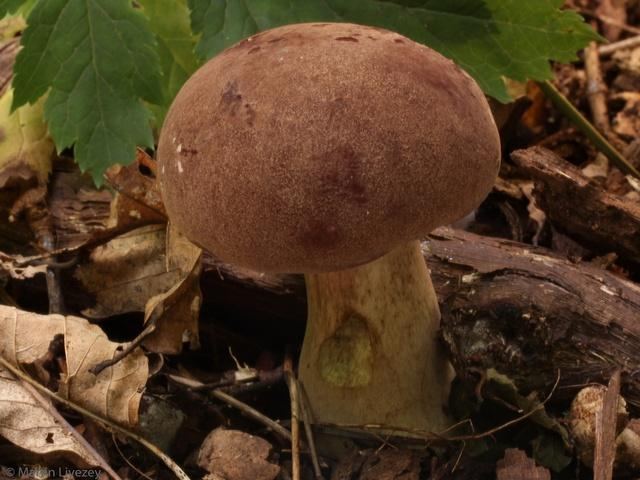Non-edible Mushroom: (153, 20, 503, 449)
